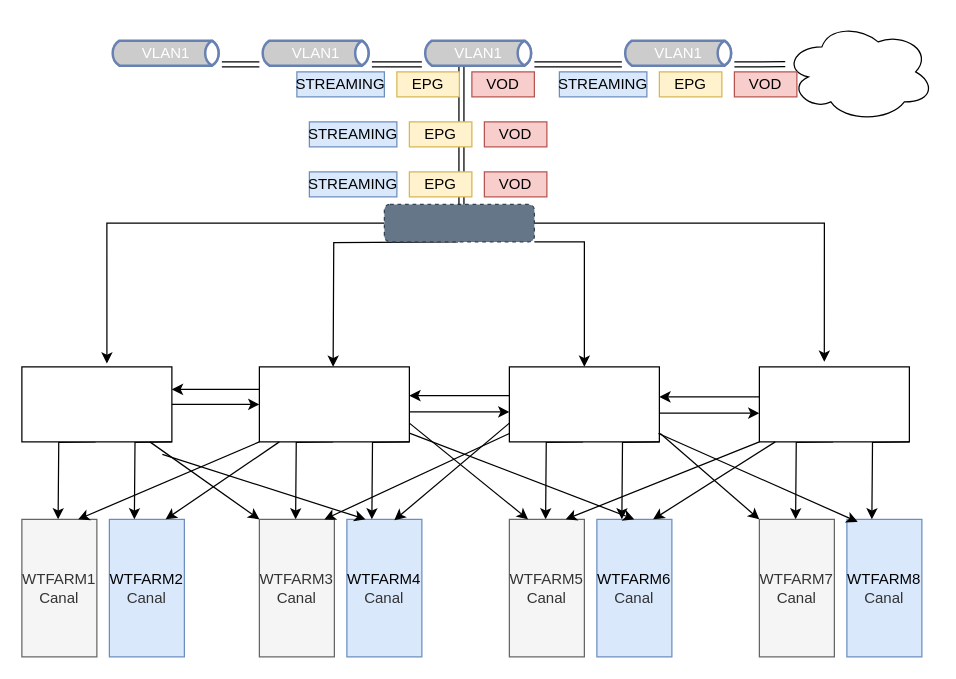
This 956x679 diagram has some shape labels left out. Each missing label, with the box of its shape:
HAPROXY: (383, 203, 534, 242)
LBs1: (21, 366, 172, 442)
LBs2: (258, 366, 409, 442)
LBs3: (508, 366, 659, 442)
LBs4: (758, 366, 909, 442)
WAN: (783, 21, 934, 122)
